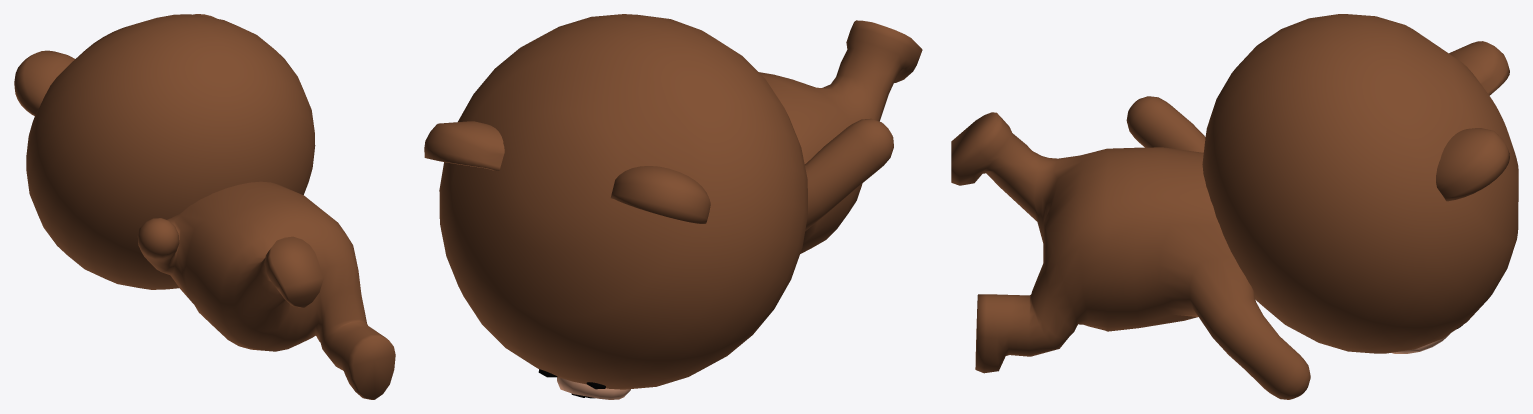
The model's file is kuma.fbx.
The picture shows the model from 3 angles, left to right: view 1: azimuth 30°, elevation 25°; view 2: azimuth 150°, elevation 25°; view 3: azimuth 270°, elevation 25°; orthographic projection. The views are drawn at different scales.
Visible parts, largest first — view 1: Sphere_002; view 2: Sphere_002; view 3: Sphere_002.
Part boxes in pixels (box(x1,y1,x2,y2)): Sphere_002: box(14, 14, 395, 399); Sphere_002: box(424, 14, 922, 399); Sphere_002: box(951, 14, 1518, 399).
Bounding box in the file's own units: 2 × 2.03 × 3.25.
